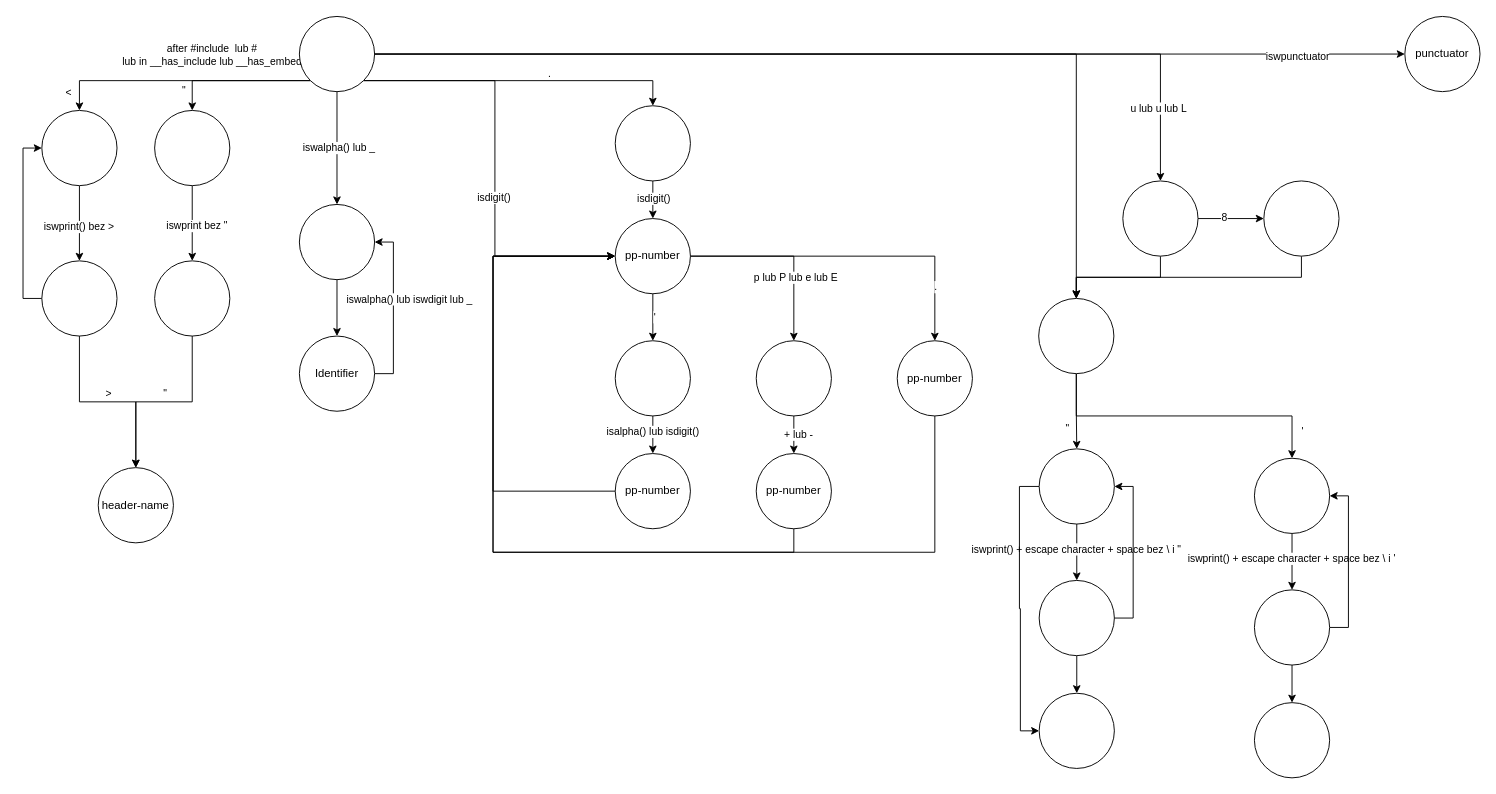
The diagram is 1496 pixels wide and 794 high, and some of its shapes have lost their labels. Each missing label, with the centre of its shape:
"char constant" belongs at [1291,740].
"start" belongs at [336,54].
"string literal" belongs at [1076,730].
